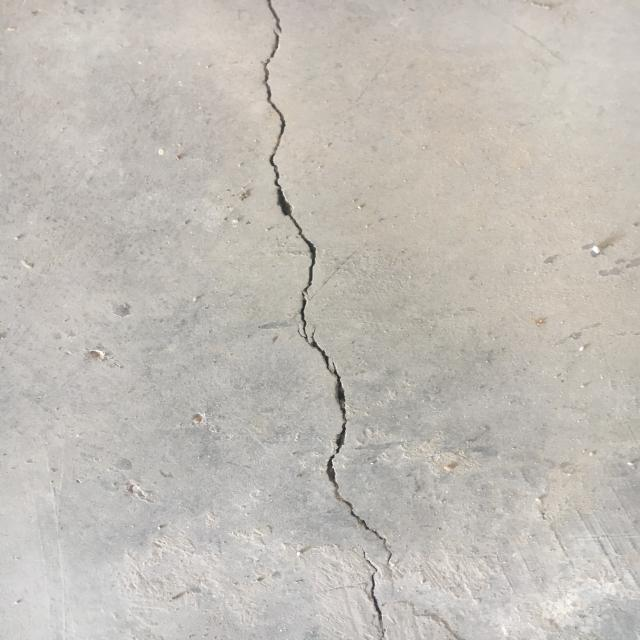Rachadura: (257, 0, 398, 640)
